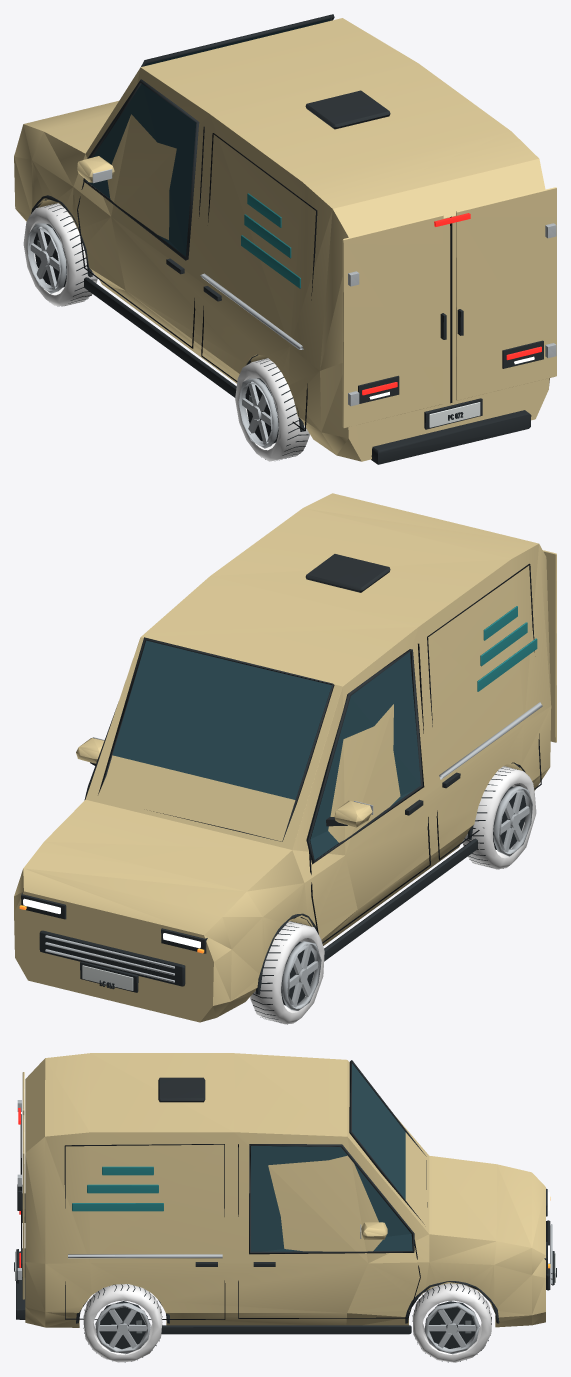
The model's file is vehicle_pelican_delivery_van_lod2.glb.
3 renders of one model, top to bottom at view 1: azimuth 30°, elevation 25°; view 2: azimuth 150°, elevation 25°; view 3: azimuth 270°, elevation 25°, orthographic. The views are drawn at different scales.
Visible parts, largest first — view 1: vehicle_lod2; view 2: vehicle_lod2; view 3: vehicle_lod2.
Boxes of the visible parts, x1,y1,x2,y2 form: vehicle_lod2: (14,14,556,464); vehicle_lod2: (14,493,556,1024); vehicle_lod2: (14,1053,556,1362).
Bounding box in the file's own units: 2.57 × 2.52 × 5.44.
